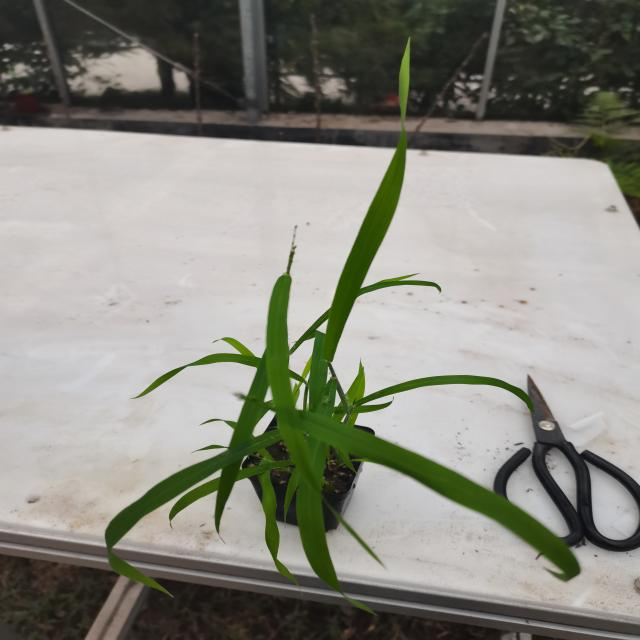crabgrass: (167, 252, 528, 553)
